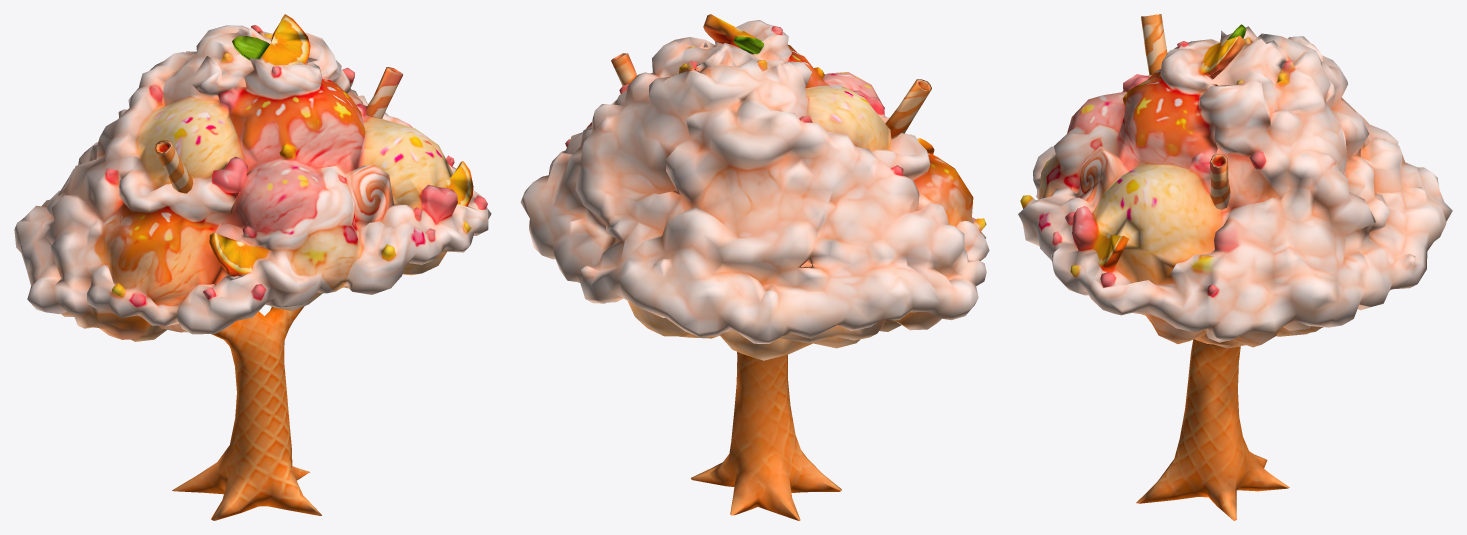
The model's file is snow64-sundae-tree-peach.glb.
3 renders of one model, left to right at view 1: azimuth 30°, elevation 25°; view 2: azimuth 150°, elevation 25°; view 3: azimuth 270°, elevation 25°, orthographic. The views are drawn at different scales.
Parts seen in each view (by area): view 1: geometry_0; view 2: geometry_0; view 3: geometry_0.
Boxes of the visible parts, <box> form: geometry_0: <box>14,14,491,520</box>; geometry_0: <box>520,14,989,520</box>; geometry_0: <box>1018,14,1452,520</box>.
Bounding box in the file's own units: 0.9131 × 0.9526 × 0.791.
1 material, 1 textured.
